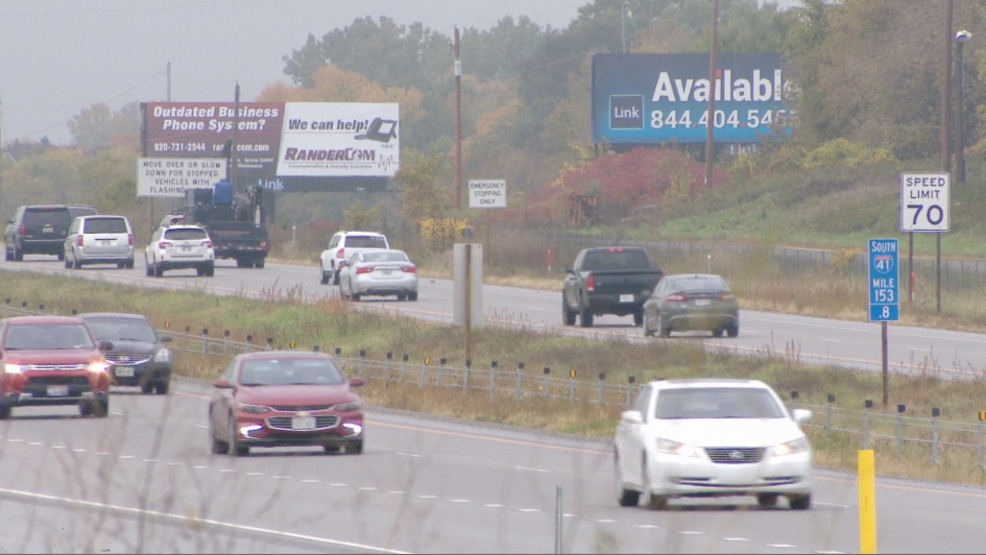speedLimit70: (898, 170, 953, 232)
